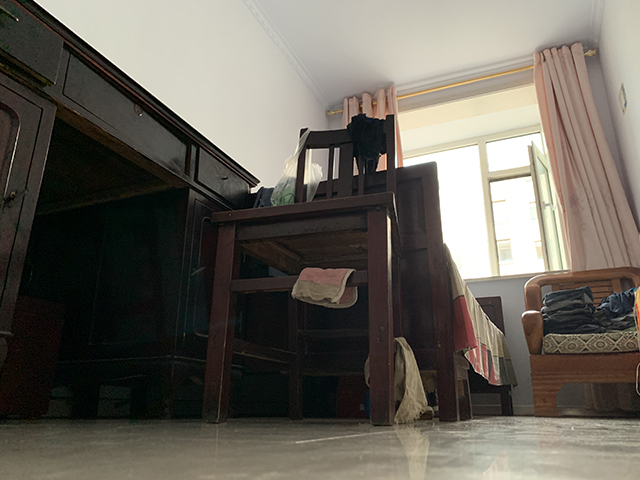bed: (250, 159, 516, 424)
curtain: (528, 44, 640, 267)
sofa: (518, 266, 640, 420)
stool: (202, 112, 405, 428)
table: (1, 1, 262, 424)
